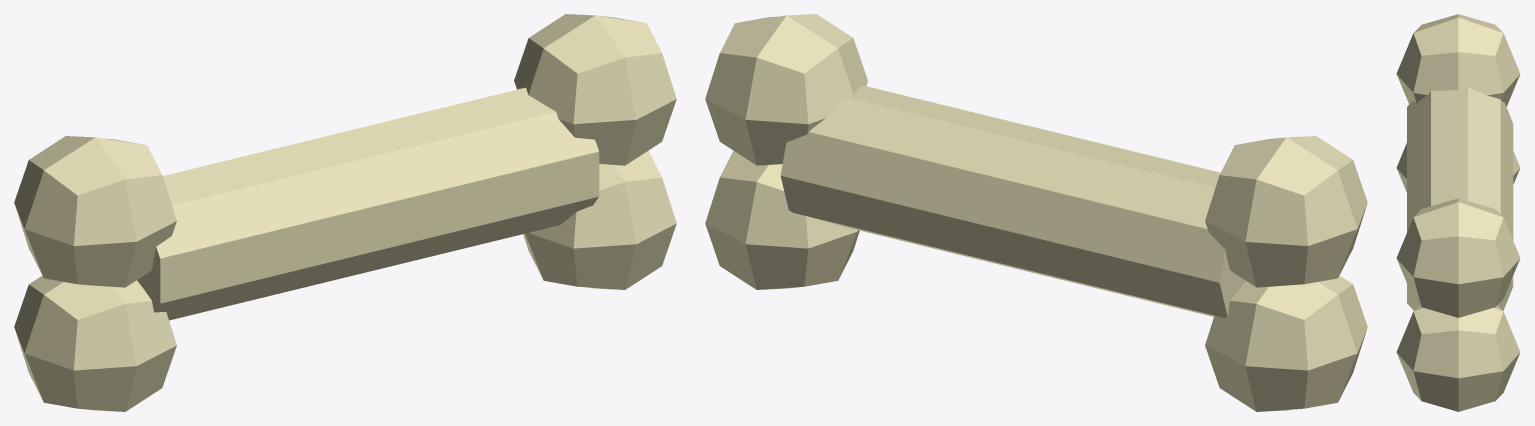
File: smallbone.fbx
3 renders of one model, left to right at view 1: azimuth 30°, elevation 25°; view 2: azimuth 150°, elevation 25°; view 3: azimuth 270°, elevation 25°, orthographic. The views are drawn at different scales.
Visible parts, largest first — view 1: Bone.001; view 2: Bone.001; view 3: Bone.001.
Boxes of the visible parts, box(x1,y1,x2,y2) form: Bone.001: box(14, 14, 676, 411); Bone.001: box(705, 14, 1367, 411); Bone.001: box(1396, 14, 1520, 411).
Bounding box in the file's own units: 271 × 110 × 59.96.
